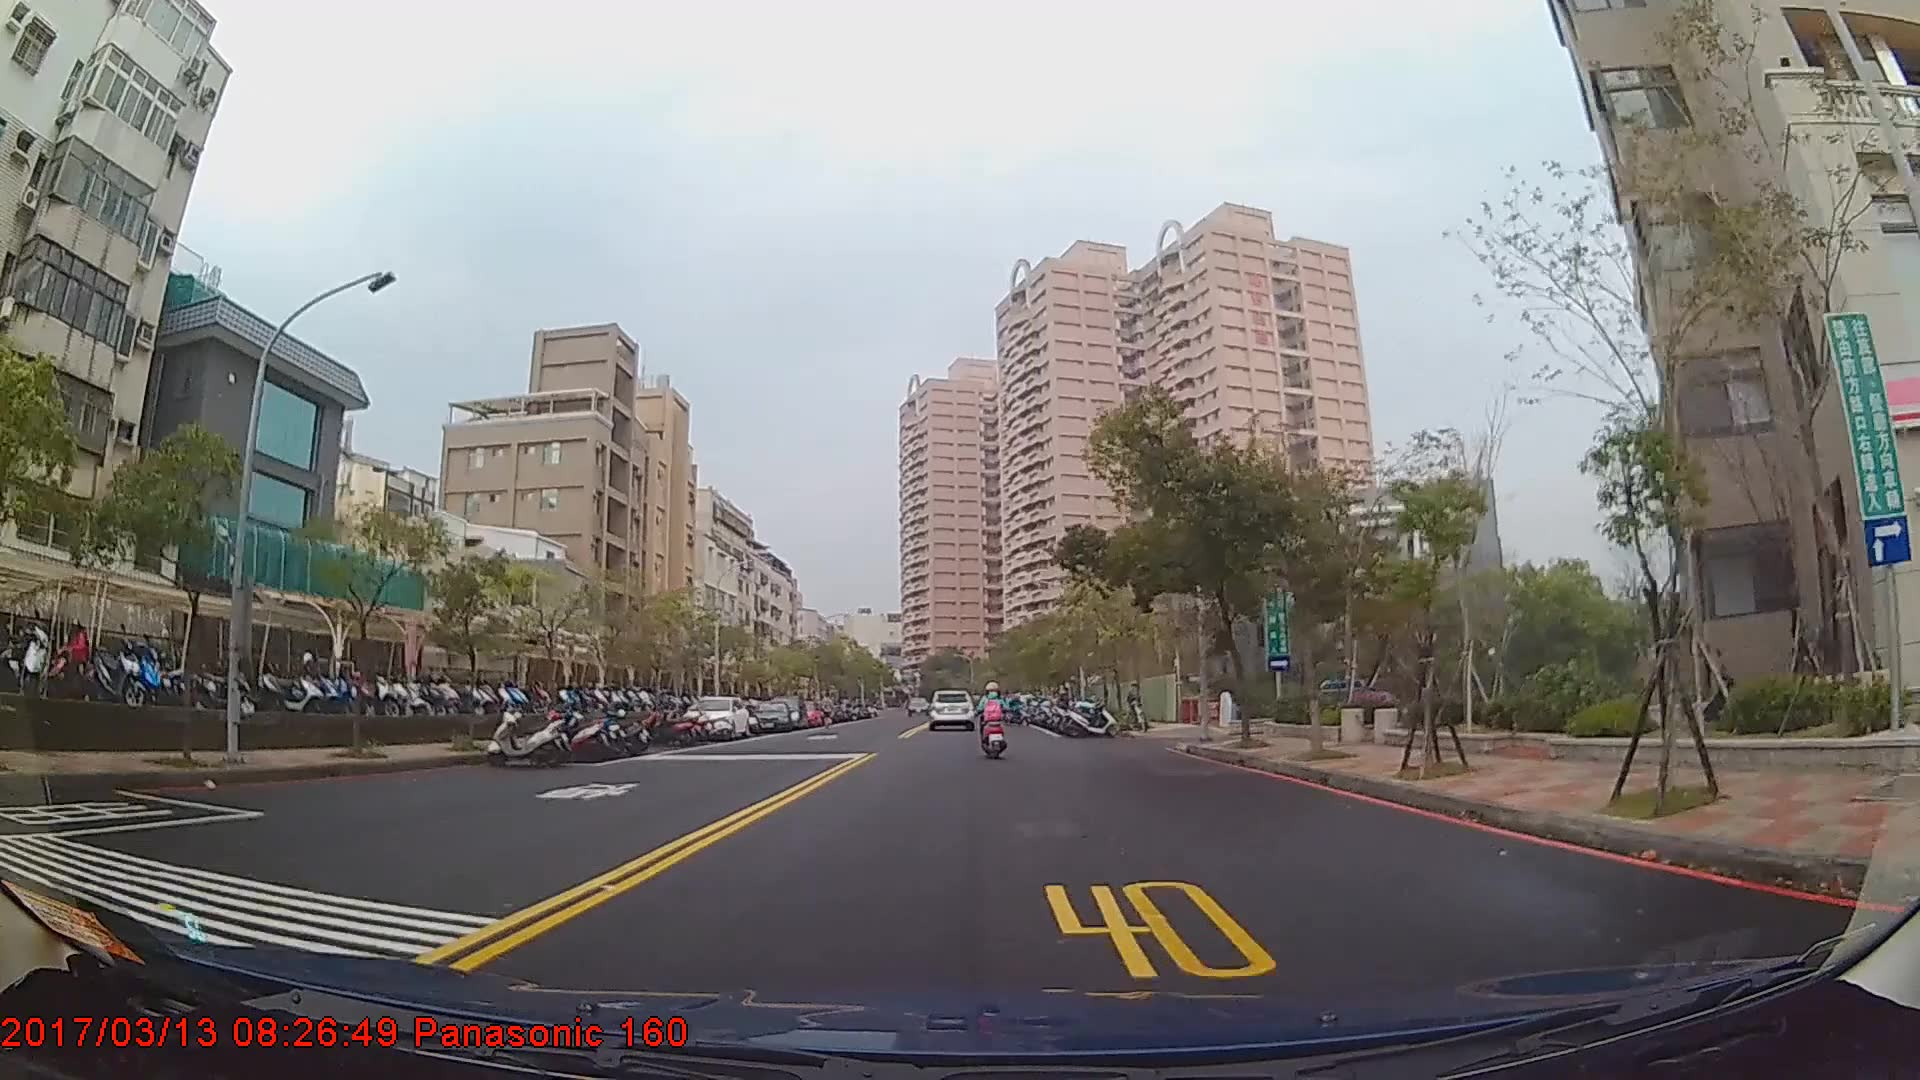pedestrian: (1126, 681, 1146, 726)
rider: (976, 680, 1008, 756)
vehicle: (684, 695, 750, 742), (925, 687, 975, 731), (746, 698, 794, 735)
